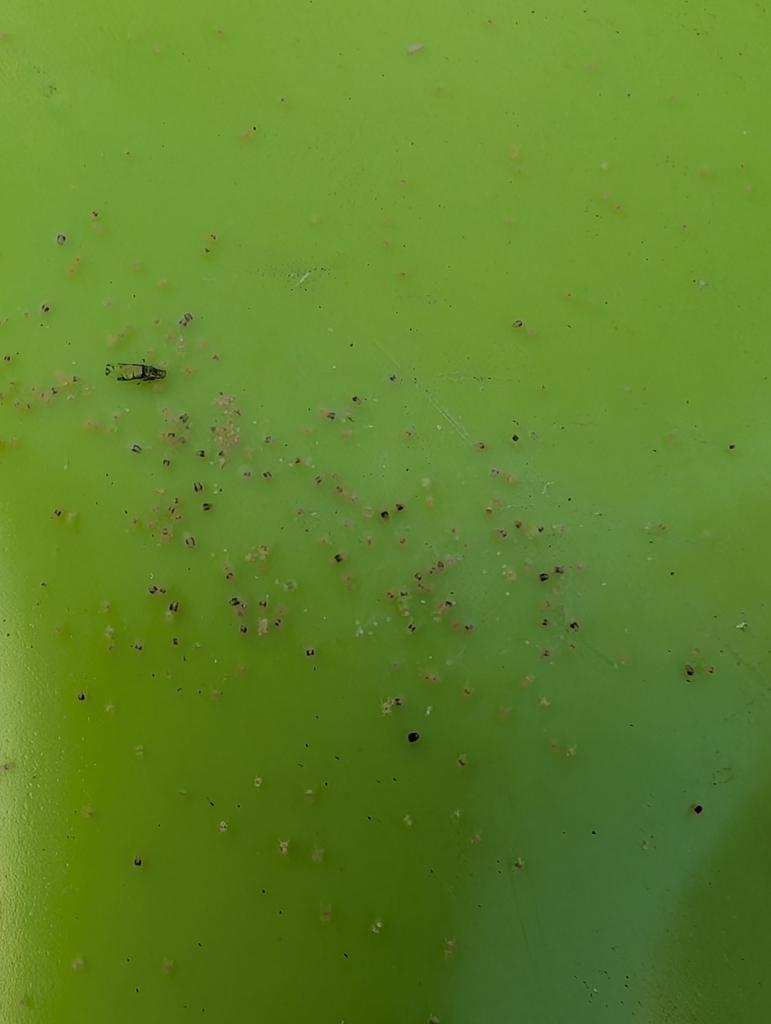tiny_pests: (118, 392, 278, 522), (368, 530, 476, 657), (219, 584, 299, 646)
